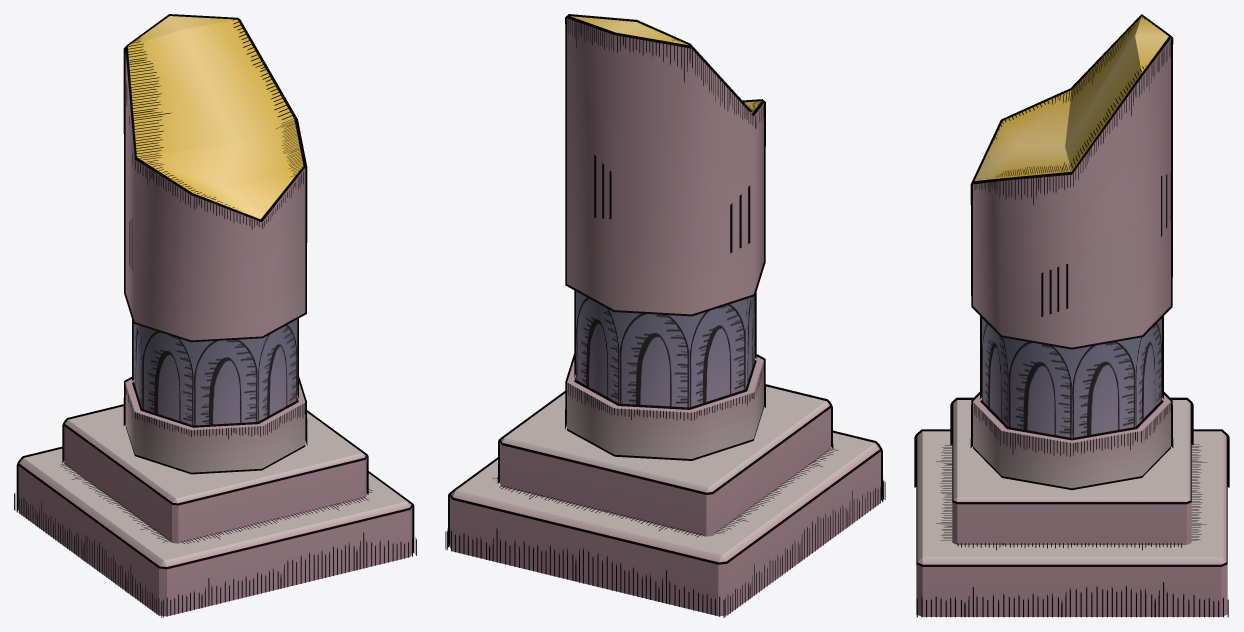
File: column-small-broken-01.glb
3 views of the same model, side by side, from view 1: azimuth 30°, elevation 25°; view 2: azimuth 150°, elevation 25°; view 3: azimuth 270°, elevation 25° (orthographic). The views are drawn at different scales.
Parts seen in each view (by area): view 1: Column_SmallBroken_01; view 2: Column_SmallBroken_01; view 3: Column_SmallBroken_01.
Part boxes in pixels (x1,y1,x2,y2): Column_SmallBroken_01: (14,14,416,617); Column_SmallBroken_01: (445,14,885,617); Column_SmallBroken_01: (914,14,1229,617).
Size of the model in its own units: 1.01 by 1.83 by 1.01.
3 materials, 2 textured.
